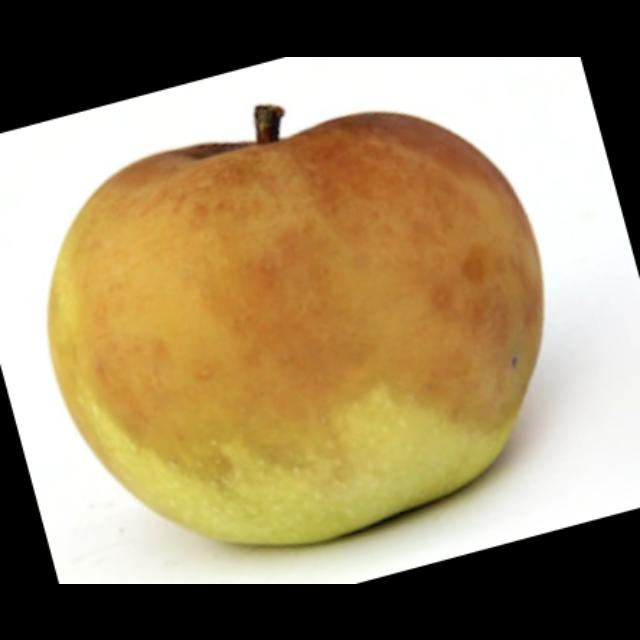Apel Tidak Segar: (45, 105, 547, 550)
